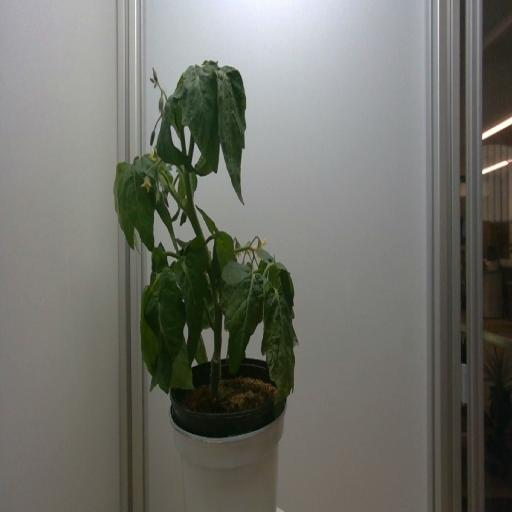Tomato-Leaves-Cupboard-: (138, 282, 196, 408), (211, 257, 268, 381), (214, 54, 251, 214), (175, 61, 223, 177), (144, 274, 189, 393), (116, 152, 164, 262), (263, 278, 296, 420), (169, 254, 202, 367), (261, 251, 303, 313), (154, 106, 190, 176), (115, 159, 139, 256), (214, 232, 240, 278), (195, 200, 223, 238), (172, 158, 188, 224), (176, 232, 209, 264), (190, 326, 207, 376), (186, 152, 216, 178), (148, 241, 170, 276)
